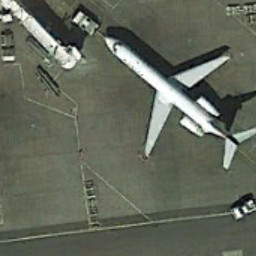Airplane: (97, 27, 256, 172)
